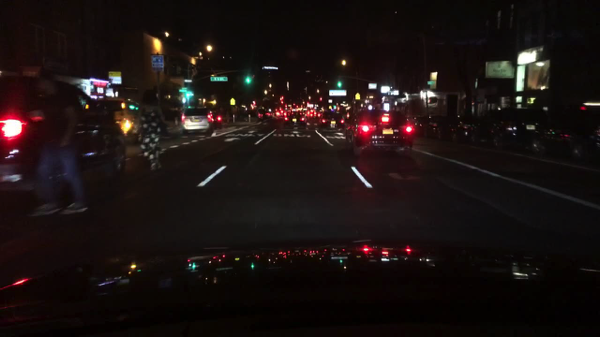car: (1, 75, 126, 195), (344, 108, 416, 158), (530, 109, 598, 159), (485, 109, 553, 149), (98, 96, 147, 144), (451, 105, 491, 143), (181, 105, 214, 136), (317, 110, 346, 133), (428, 114, 452, 140), (284, 113, 307, 130), (413, 116, 430, 137), (213, 109, 224, 129), (258, 110, 275, 121), (312, 109, 321, 118)
person: (30, 74, 88, 218), (134, 91, 170, 172)
traffic light: (183, 91, 194, 99), (334, 78, 342, 89), (245, 75, 252, 84)
traffic sign: (151, 55, 165, 71), (107, 71, 123, 85), (329, 88, 347, 98), (208, 77, 228, 82), (228, 96, 236, 106), (367, 81, 377, 89), (354, 92, 362, 100), (425, 81, 438, 85)
